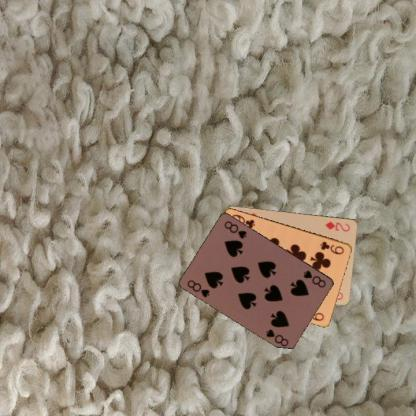2d: (322, 218, 352, 233)
8s: (184, 278, 212, 300), (301, 267, 327, 289)
9c: (318, 238, 346, 256)
